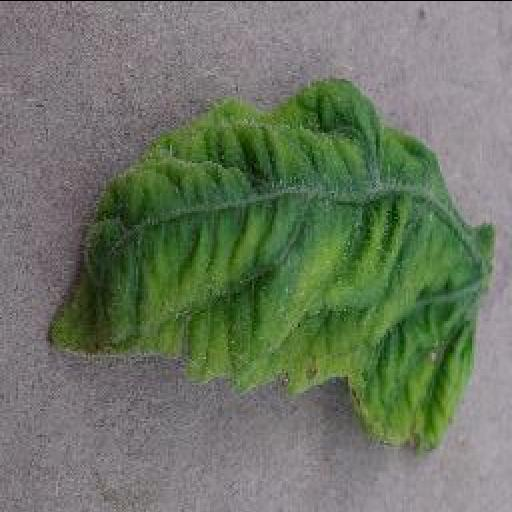disease_tomato: (42, 77, 492, 454)
